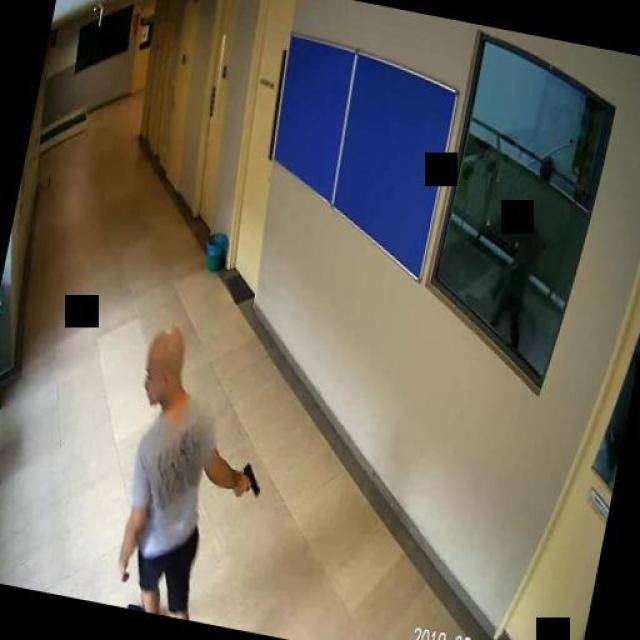gun: (236, 460, 262, 499)
